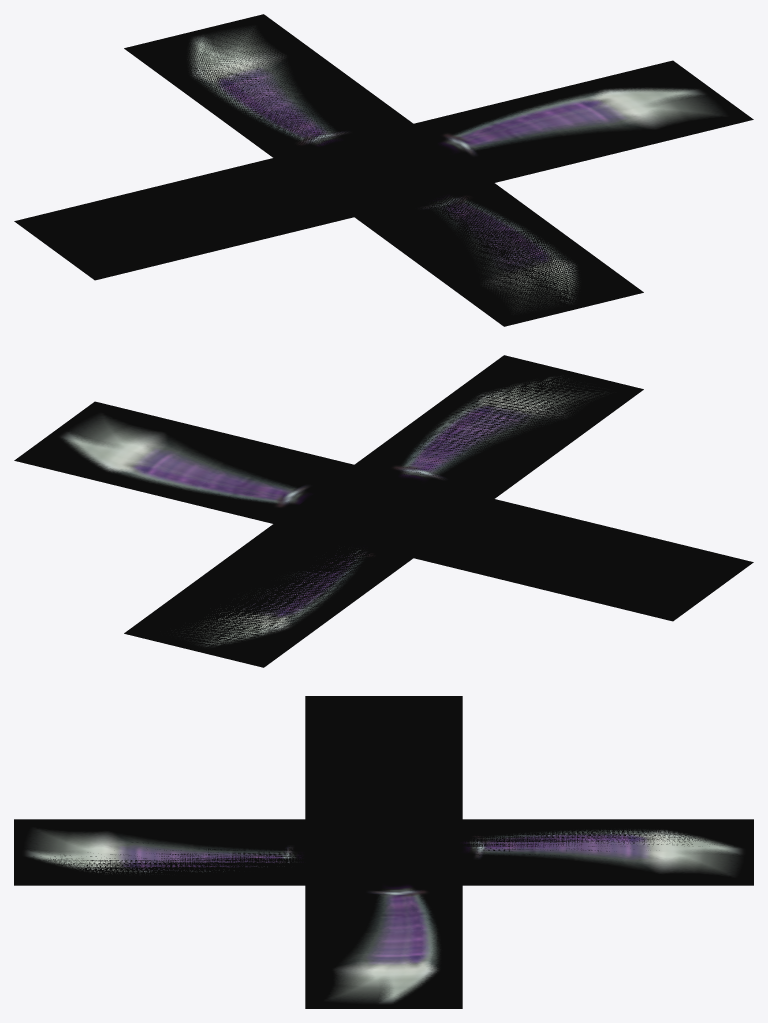
The model's file is Mon_Dajiankulou_Atk_Q.FBX.
3 renders of one model, top to bottom at view 1: azimuth 30°, elevation 25°; view 2: azimuth 150°, elevation 25°; view 3: azimuth 270°, elevation 25°, orthographic. The views are drawn at different scales.
Parts seen in each view (by area): view 1: Mon_Dajiankulou_Atk_Q_dao; view 2: Mon_Dajiankulou_Atk_Q_dao; view 3: Mon_Dajiankulou_Atk_Q_dao.
Boxes of the visible parts, <box> form: Mon_Dajiankulou_Atk_Q_dao: <box>14,14,753,326</box>; Mon_Dajiankulou_Atk_Q_dao: <box>14,355,753,667</box>; Mon_Dajiankulou_Atk_Q_dao: <box>14,696,753,1008</box>.
Size of the model in its own units: 23.5 by 6.66e-15 by 23.5.
